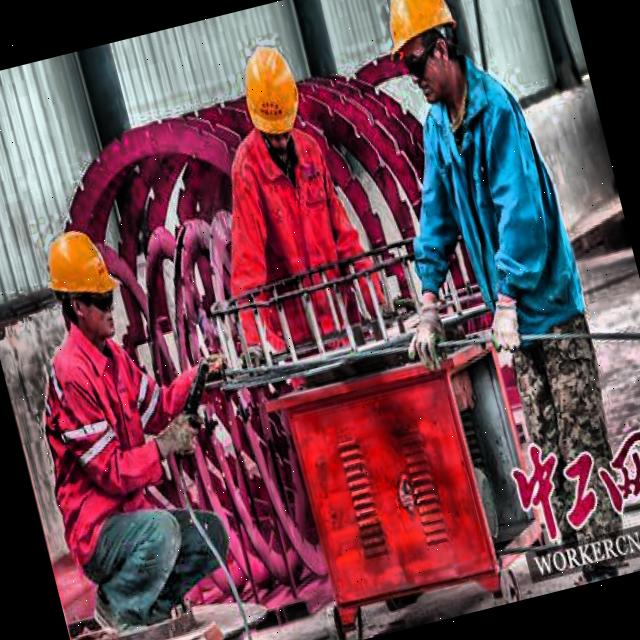helmet: (32, 214, 132, 354), (369, 0, 476, 114), (230, 34, 316, 156)
